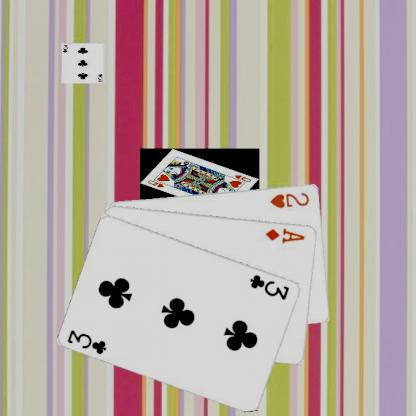2H: (268, 189, 311, 209)
3C: (247, 272, 291, 301), (64, 327, 108, 356)
AD: (263, 225, 306, 244)
